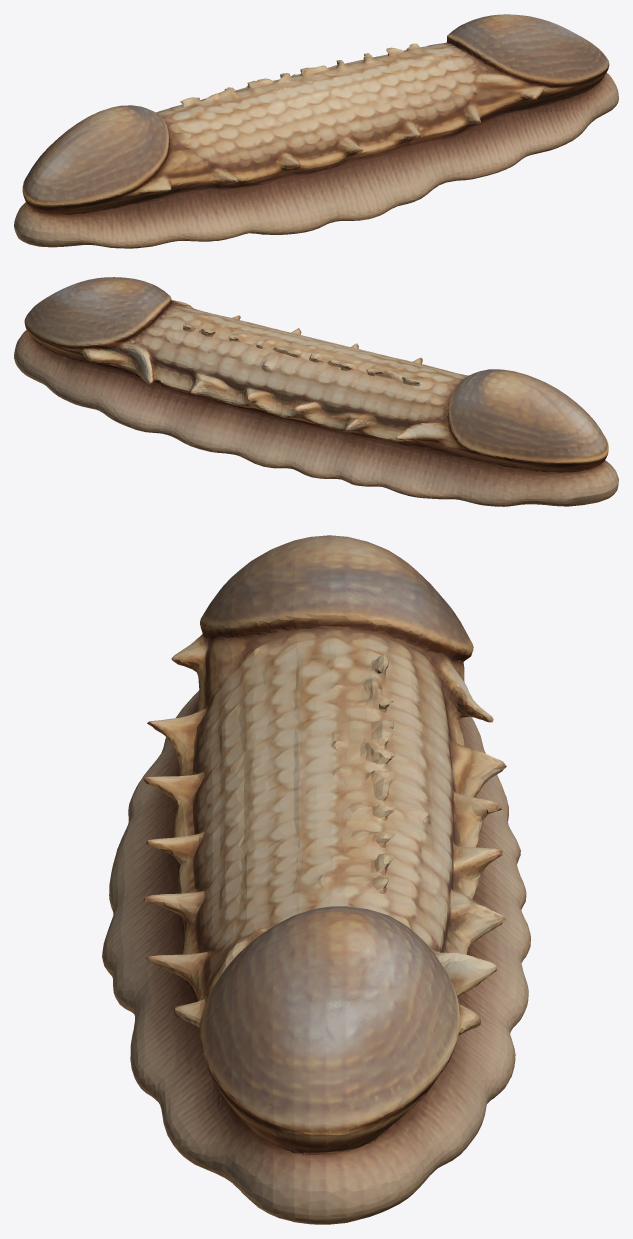
3 views of the same model, one above another, from view 1: azimuth 30°, elevation 25°; view 2: azimuth 150°, elevation 25°; view 3: azimuth 270°, elevation 25° (orthographic). The views are drawn at different scales.
Parts seen in each view (by area): view 1: world; view 2: world; view 3: world.
Boxes of the visible parts, x1=… form: world: x1=14, y1=14, x2=618, y2=248; world: x1=14, y1=277, x2=618, y2=506; world: x1=102, y1=535, x2=530, y2=1224.
Bounding box in the file's own units: 0.07 × 0.0124 × 0.0219.
Materials: 1 (1 with a texture image).
